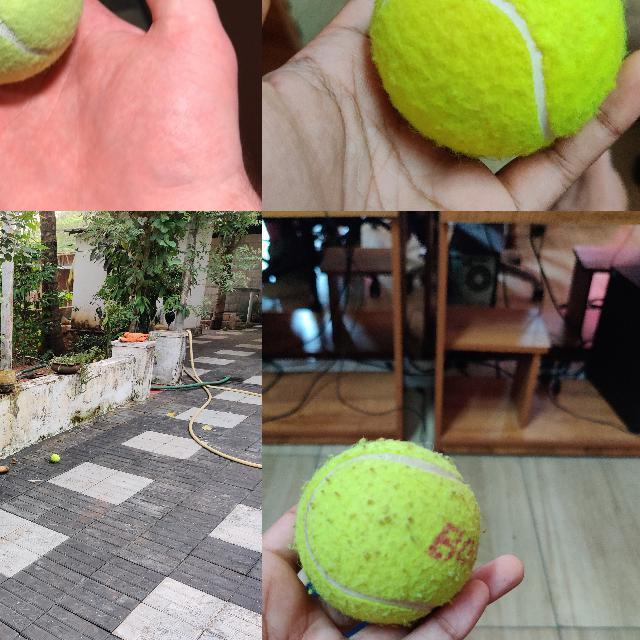tennis-ball: (370, 0, 625, 158), (292, 438, 480, 626), (0, 0, 86, 87), (50, 453, 60, 462)
